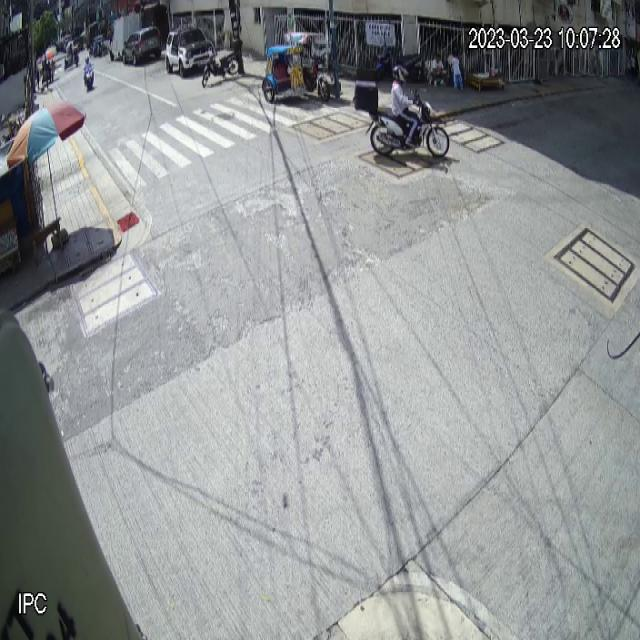Motorcycle: (352, 80, 452, 160), (201, 38, 243, 88)
Tricycle: (262, 32, 331, 102)
